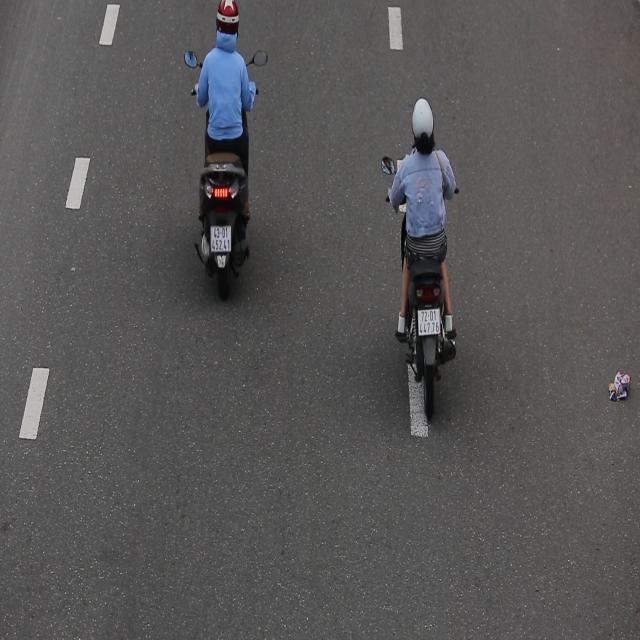motorbike: (368, 80, 468, 421), (178, 0, 274, 340)
